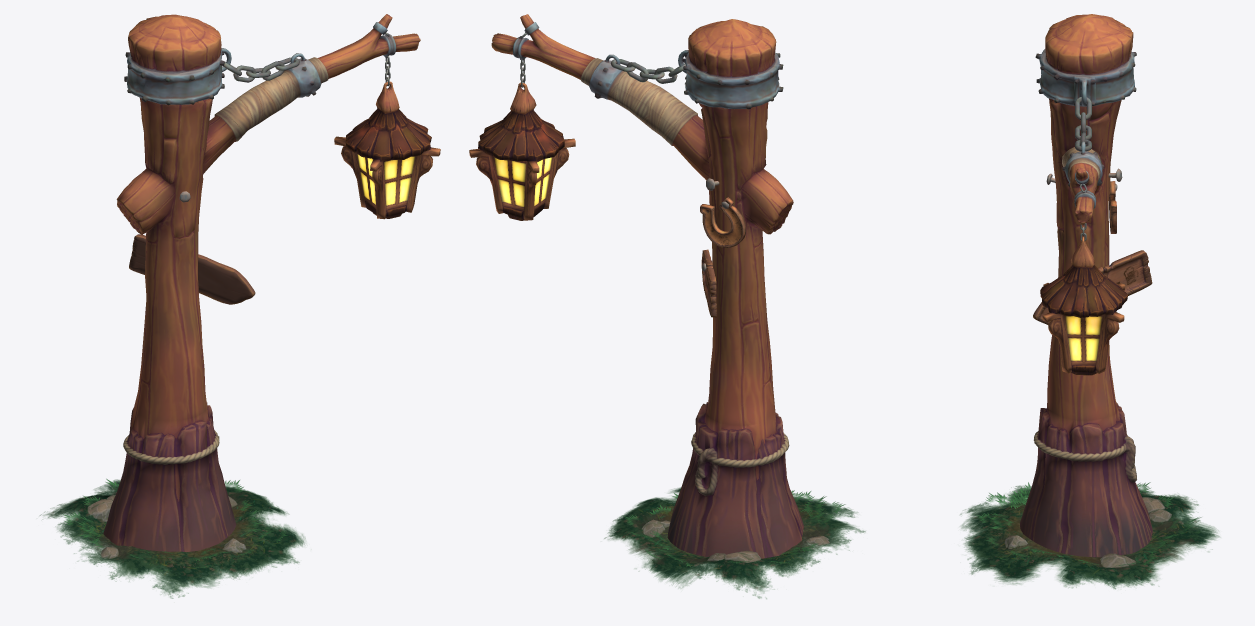
3 views of the same model, side by side, from view 1: azimuth 30°, elevation 25°; view 2: azimuth 150°, elevation 25°; view 3: azimuth 270°, elevation 25° (orthographic).
Parts seen in each view (by area): view 1: LampPost_NewUV, Ground, Lantern, Sign, Grass, Chains; view 2: LampPost_NewUV, Ground, Lantern, Grass, Horseshoe, Chains, Sign; view 3: LampPost_NewUV, Ground, Lantern, Grass, Sign, Chains.
Part boxes in pixels (<box>): LampPost_NewUV: <box>103,14,420,551</box>; Ground: <box>40,479,305,598</box>; Lantern: <box>334,81,440,219</box>; Sign: <box>129,234,255,304</box>; Grass: <box>62,478,287,571</box>; Chains: <box>223,32,390,86</box>; LampPost_NewUV: <box>491,14,803,558</box>; Ground: <box>604,487,865,598</box>; Lantern: <box>469,82,575,220</box>; Grass: <box>623,490,845,567</box>; Horseshoe: <box>700,197,745,247</box>; Chains: <box>520,33,685,87</box>; Sign: <box>701,249,716,317</box>; LampPost_NewUV: <box>1020,14,1152,557</box>; Ground: <box>960,485,1219,589</box>; Lantern: <box>1040,237,1127,375</box>; Grass: <box>975,482,1202,565</box>; Sign: <box>1033,250,1152,324</box>; Chains: <box>1075,97,1091,240</box>.
Bounding box in the file's own units: 3.22 × 4.15 × 2.22.
Materials: 8 (8 with a texture image).
